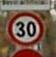limite 30: (6, 9, 44, 47)
